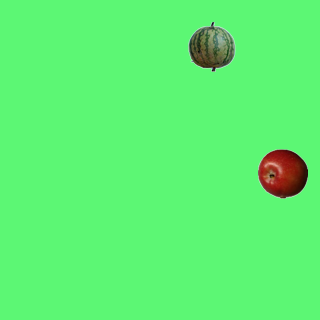Apple Braeburn: (257, 148, 307, 198)
Watermelon: (186, 21, 236, 71)
